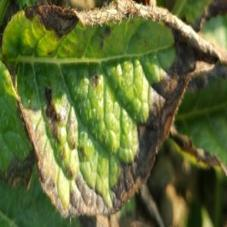Late Blight: (1, 0, 227, 220)
